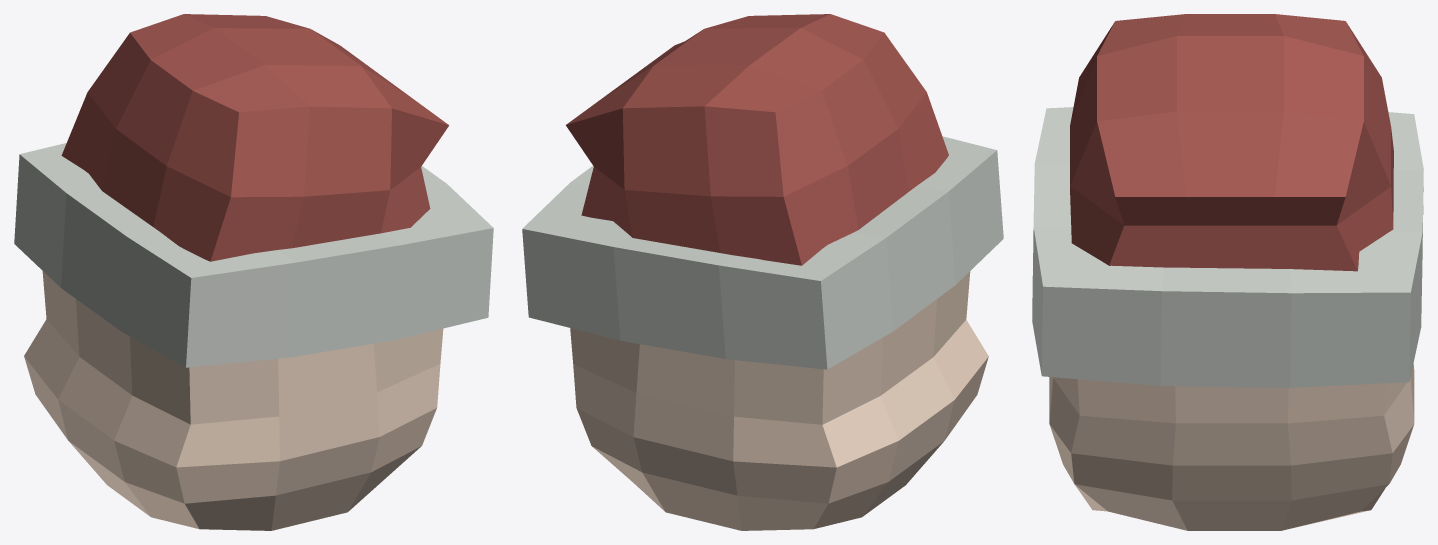
Rendered from jouluvana1.fbx.
3 views of the same model, side by side, from view 1: azimuth 30°, elevation 25°; view 2: azimuth 150°, elevation 25°; view 3: azimuth 270°, elevation 25° (orthographic). The views are drawn at different scales.
Parts seen in each view (by area): view 1: Cube.002; view 2: Cube.002; view 3: Cube.002.
Boxes of the visible parts, x1,y1,x2,y2 form: Cube.002: [14, 14, 493, 530]; Cube.002: [522, 14, 1003, 530]; Cube.002: [1032, 14, 1423, 530].
Bounding box in the file's own units: 350 × 436 × 342.
